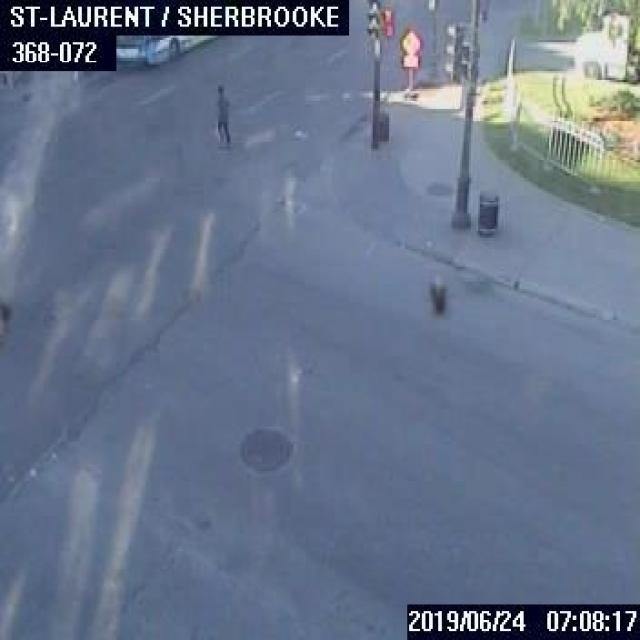bus: (113, 31, 211, 69)
construction: (399, 28, 419, 98)
pedestrian: (213, 82, 230, 144)
